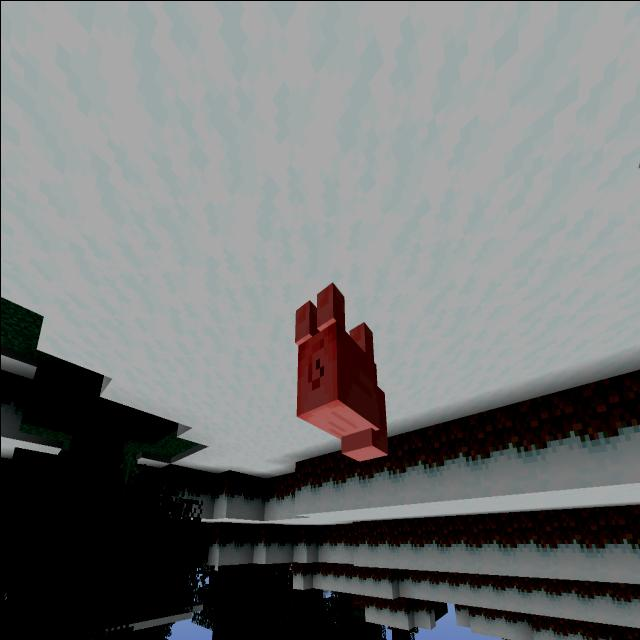pig: (288, 274, 392, 470)
